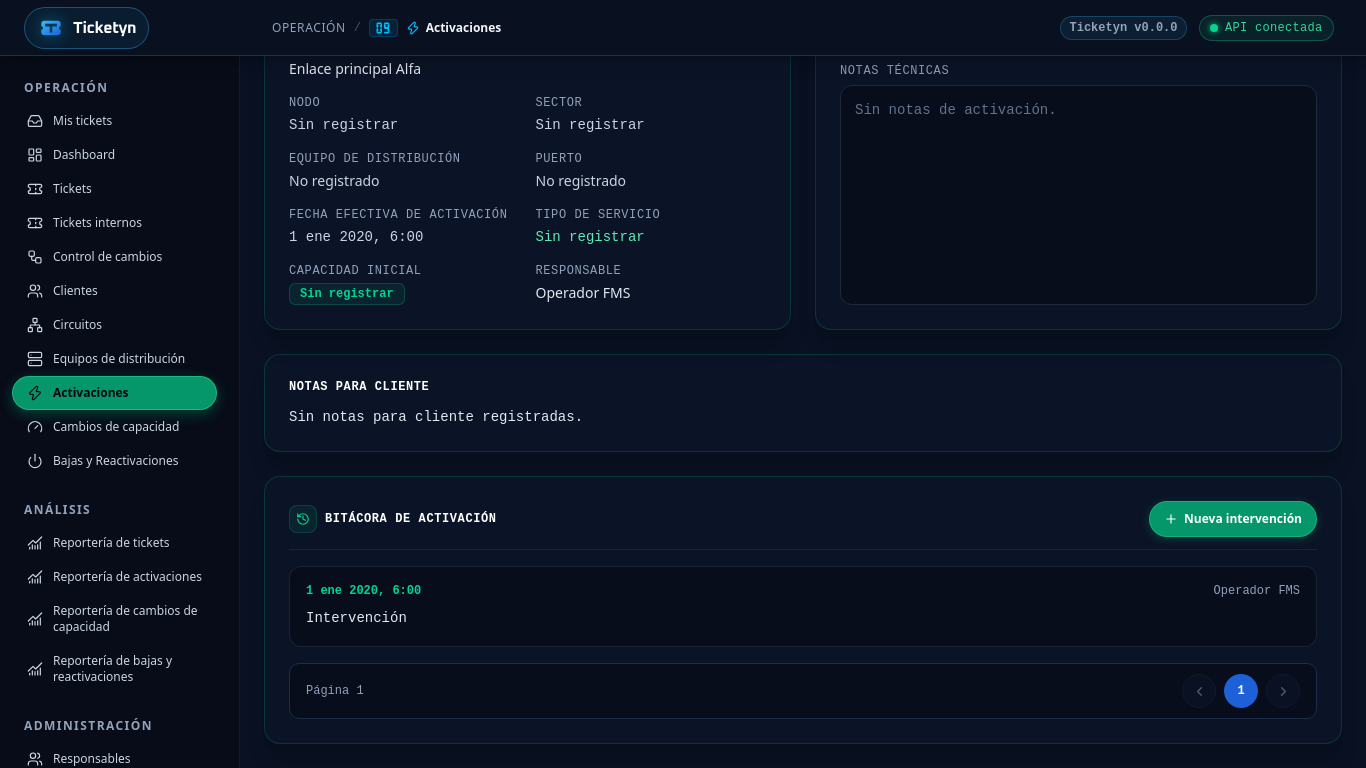
Test: mueve Nueva intervención a la bitácora (vacía=false) y muestra información del circuito
(page scrolled)
Expected: the element "Información de activación" shows "Enlace principal Alfa", [289,59,421,78]
Expected: the element "Información de activación" shows "Fecha efectiva de activación", [289,208,507,222]
Click the button "Nueva intervención": (1233, 519) [1149,501,1317,537]
(page scrolled)
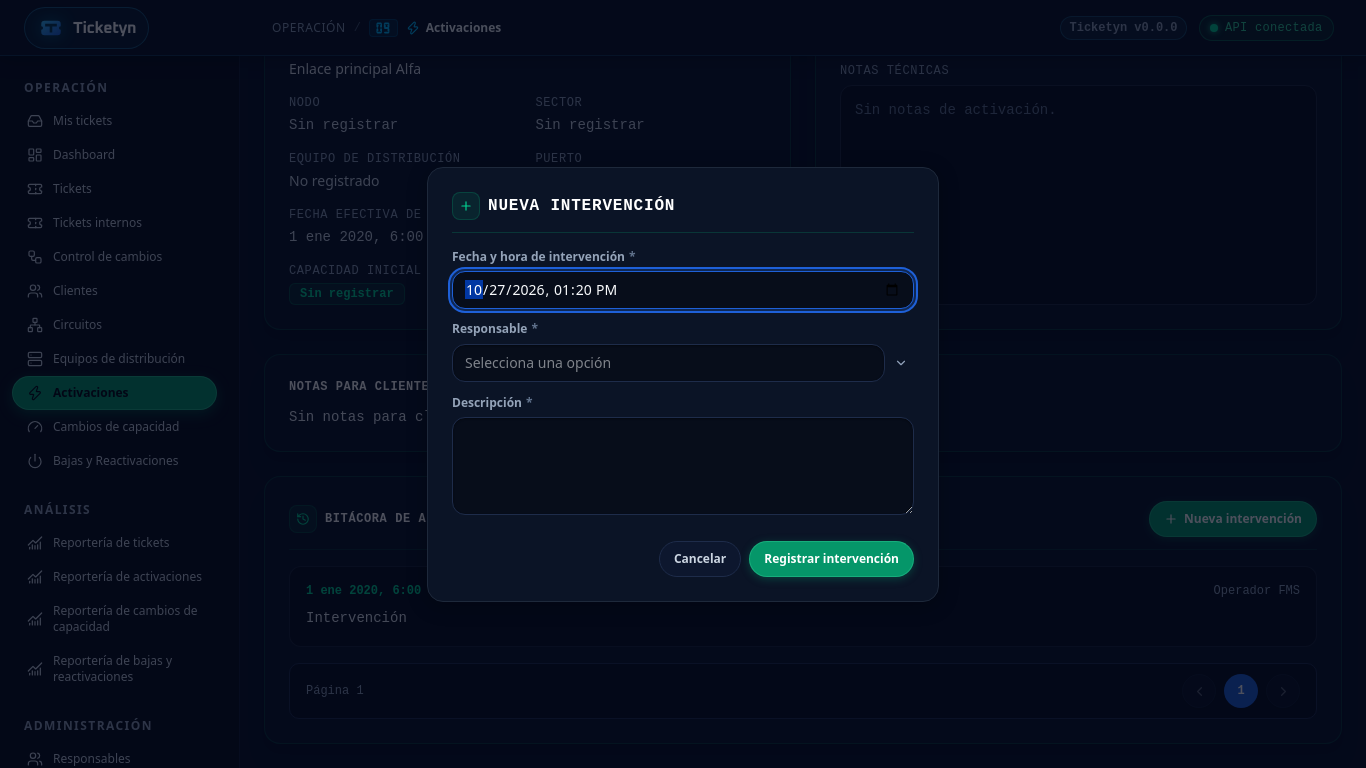
Expected: the form named "Registrar intervención de activación" is shown, [452,248,914,576]
